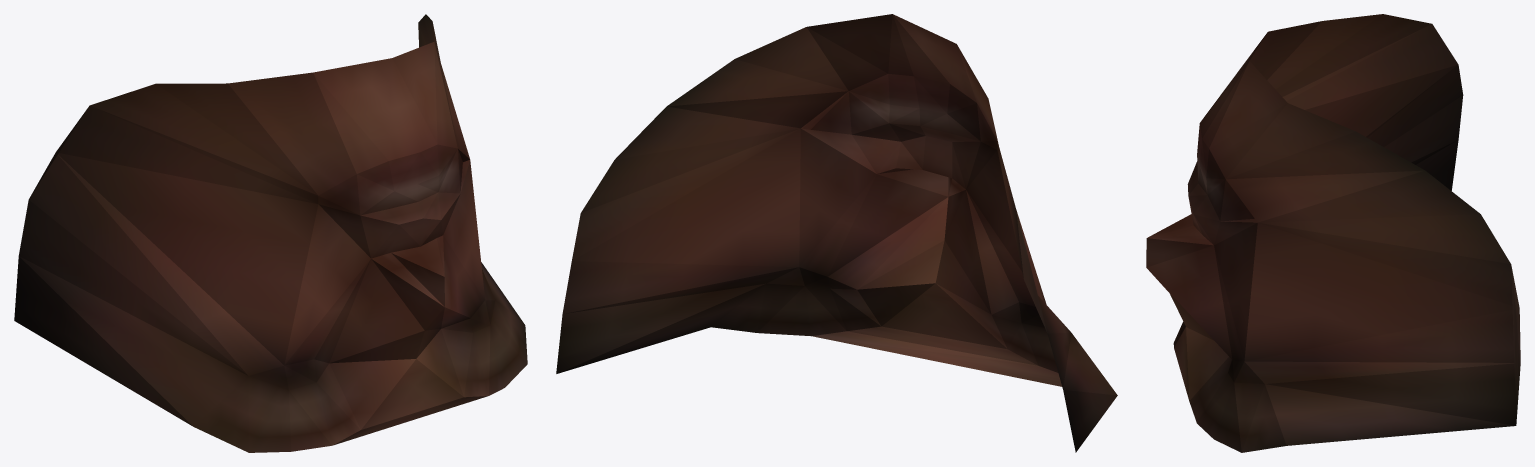
File: real_17313.obj
The picture shows the model from 3 angles, left to right: view 1: azimuth 30°, elevation 25°; view 2: azimuth 150°, elevation 25°; view 3: azimuth 270°, elevation 25°; orthographic projection. The views are drawn at different scales.
Bounding box in the file's own units: 111 × 79 × 80.43.
